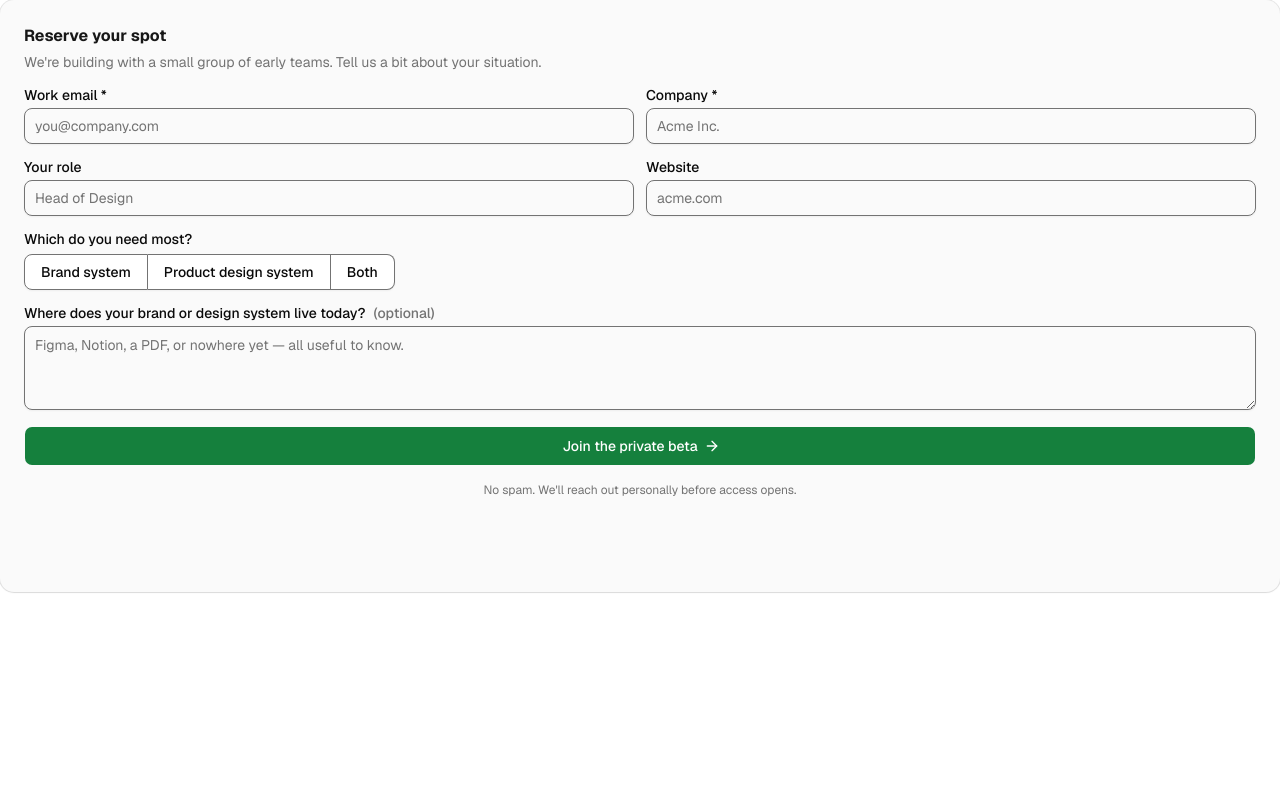
Test: WaitlistForm › validates, links errors to fields and focuses the first invalid one
Click the button "Join the private beta" at x=640, y=446, box [24,426,1256,466]
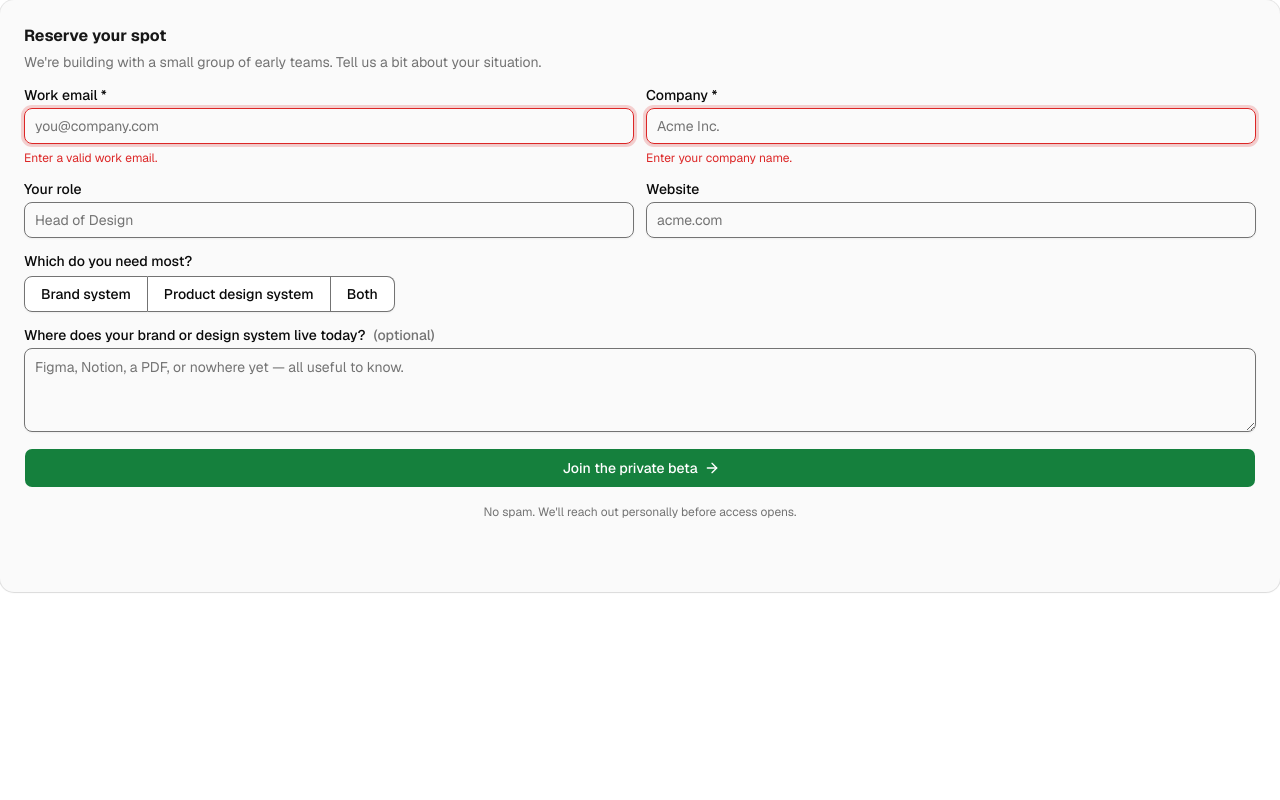
Now the text "Enter a valid work email." is shown, box [24,150,158,166]
